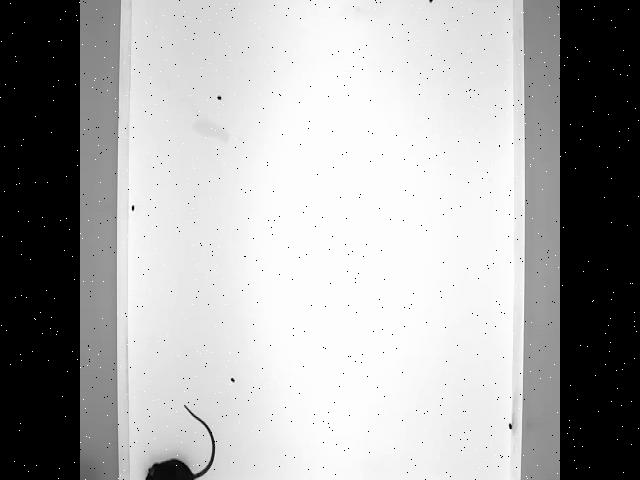Tikus: (146, 403, 216, 480)
